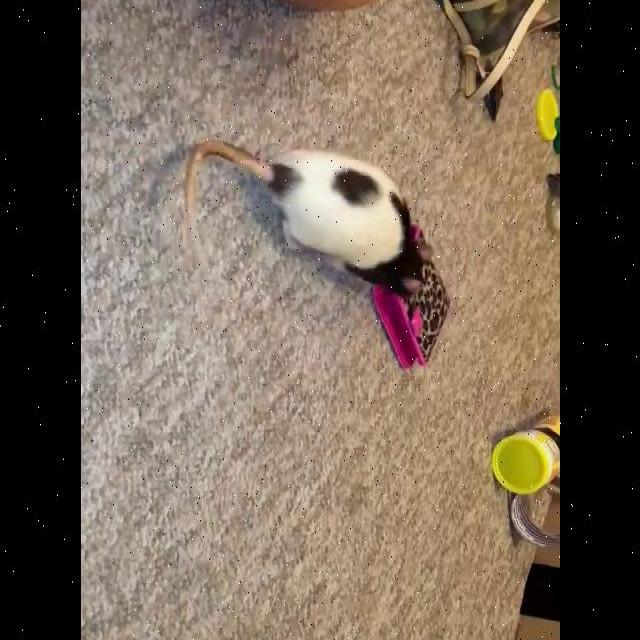rat: (176, 135, 440, 281)
